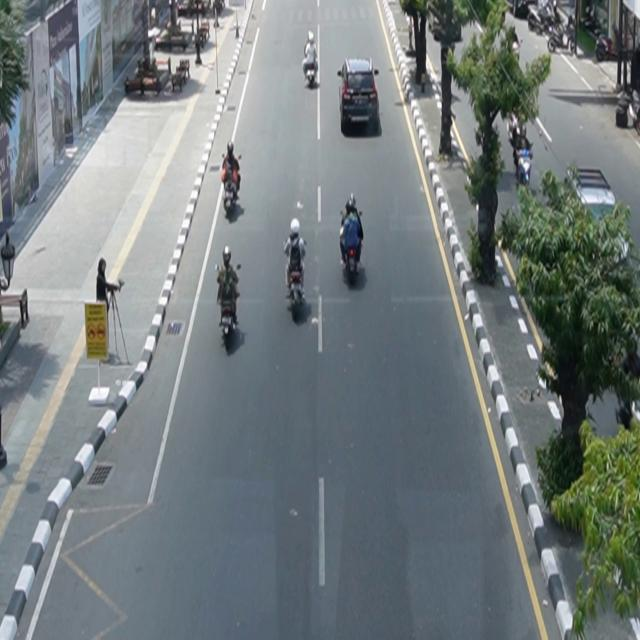car: (338, 57, 381, 135)
